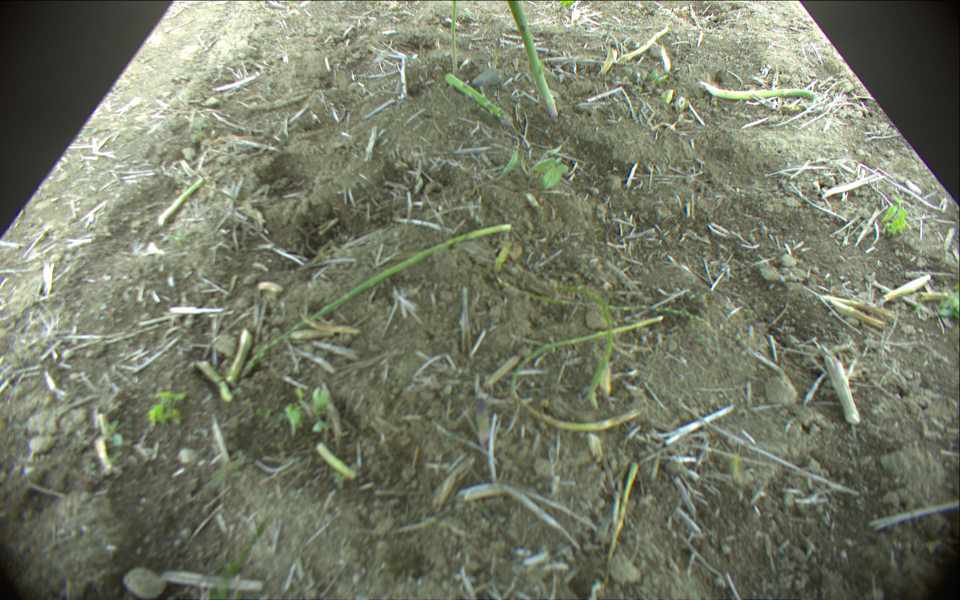aspa: (246, 224, 510, 380), (494, 242, 714, 329), (507, 314, 668, 432), (504, 1, 559, 118), (566, 280, 614, 398), (442, 71, 503, 117), (700, 80, 821, 103), (160, 178, 205, 227), (315, 442, 355, 479), (229, 325, 250, 390), (450, 1, 461, 73)
